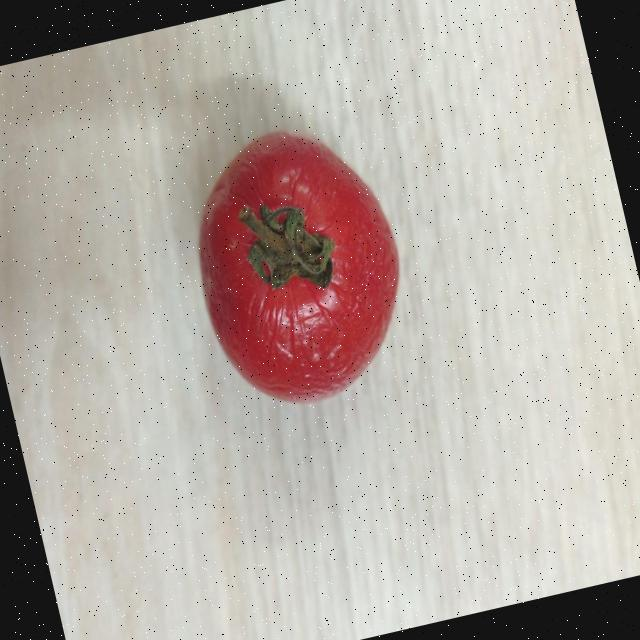overripe: (166, 107, 429, 424)
